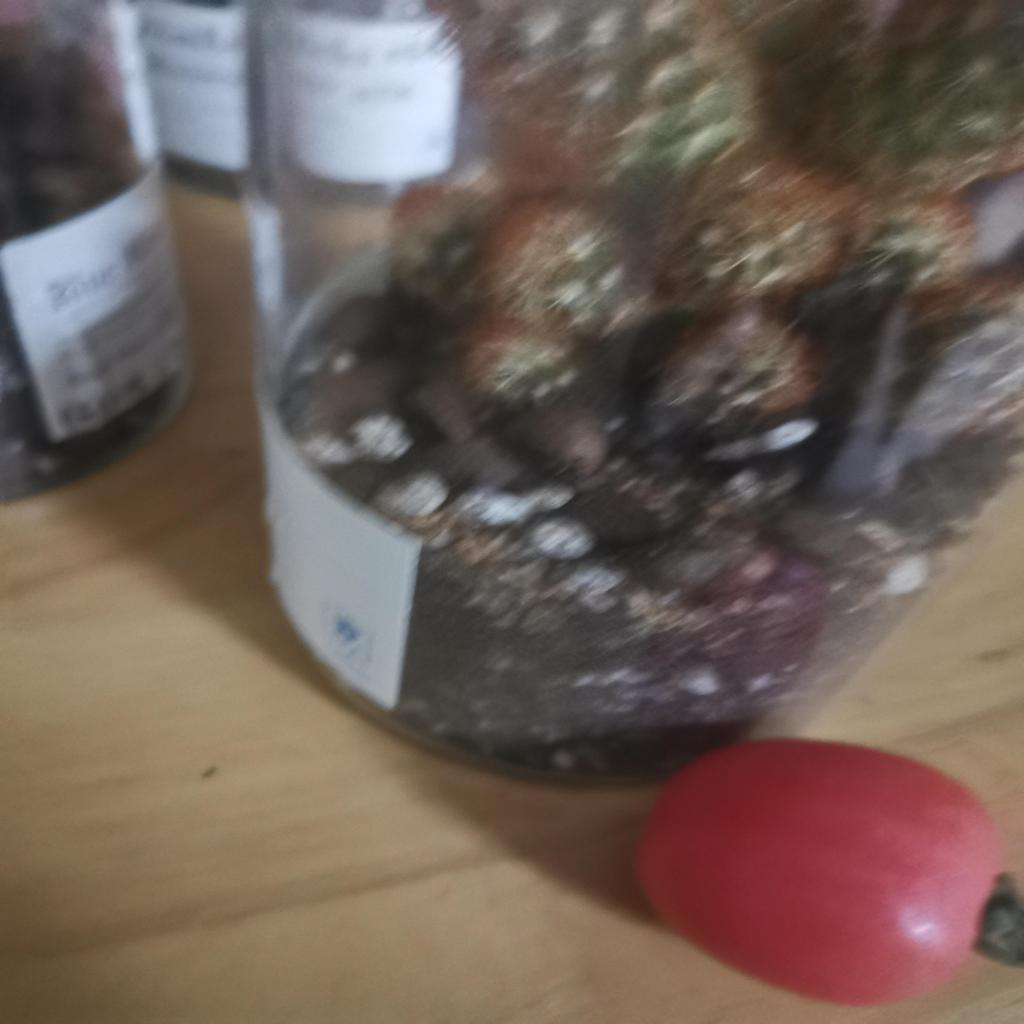tomato: (644, 742, 1000, 999)
